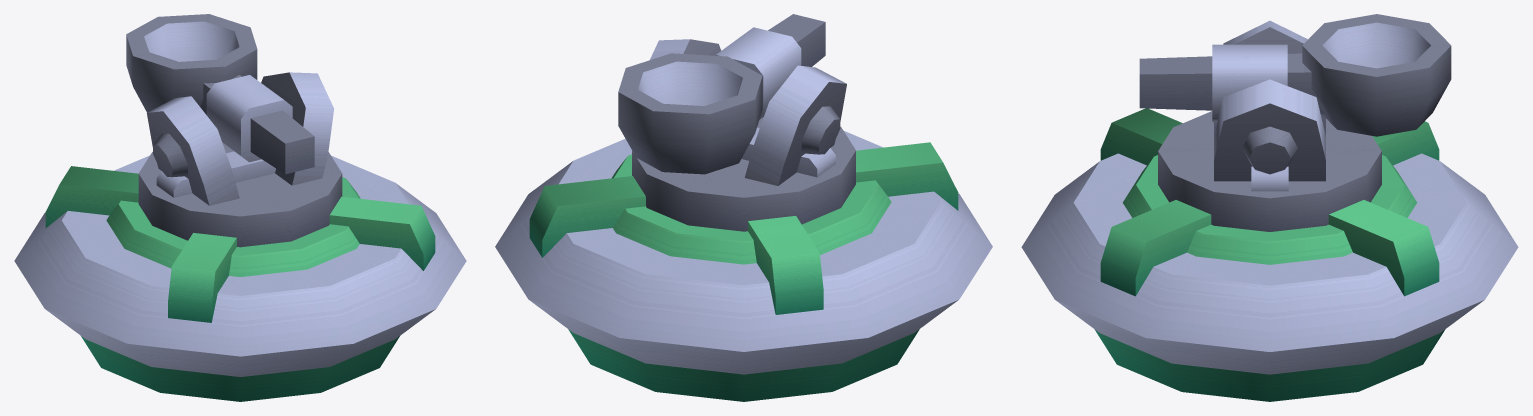
File: enemy-ufo-b-weapon.glb
3 renders of one model, left to right at view 1: azimuth 30°, elevation 25°; view 2: azimuth 150°, elevation 25°; view 3: azimuth 270°, elevation 25°, orthographic. The views are drawn at different scales.
Parts seen in each view (by area): view 1: enemy-ufo-b-weapon, catapult; view 2: enemy-ufo-b-weapon, catapult; view 3: enemy-ufo-b-weapon, catapult.
Boxes of the visible parts, <box> form: enemy-ufo-b-weapon: <box>14,72,466,401</box>; catapult: <box>126,14,314,174</box>; enemy-ufo-b-weapon: <box>495,39,992,401</box>; catapult: <box>618,14,825,174</box>; enemy-ufo-b-weapon: <box>1021,20,1518,401</box>; catapult: <box>1139,14,1451,136</box>.
Size of the model in its own units: 0.9994 by 0.6256 by 1.
1 material, 1 textured.
